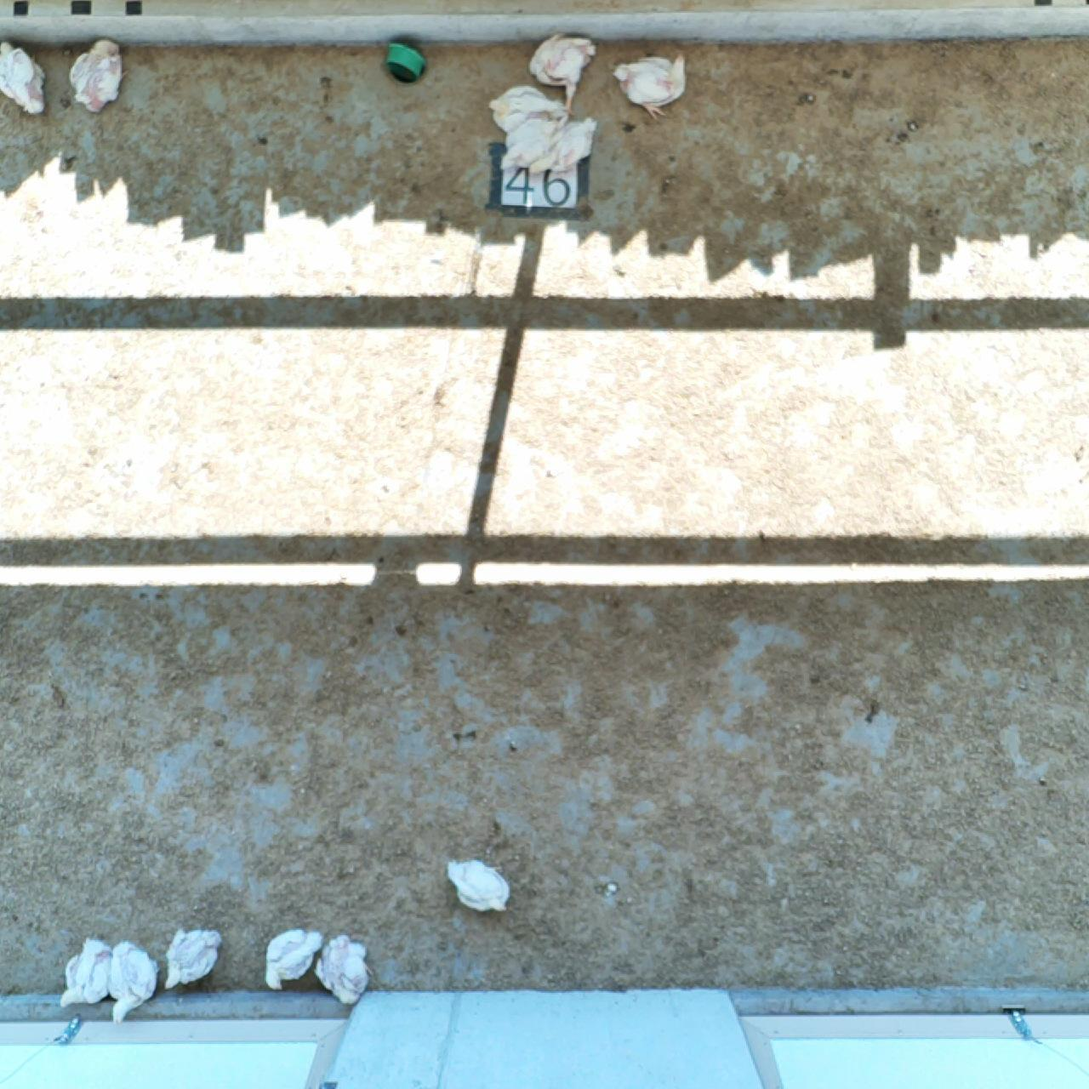chicken: (529, 34, 597, 115), (615, 53, 687, 121), (489, 85, 567, 140), (499, 117, 567, 179), (109, 942, 160, 1023), (70, 38, 125, 113), (315, 934, 372, 1006), (444, 858, 512, 916), (264, 929, 323, 993), (60, 936, 111, 1008), (162, 929, 223, 989), (1, 40, 45, 117), (543, 115, 597, 170)
